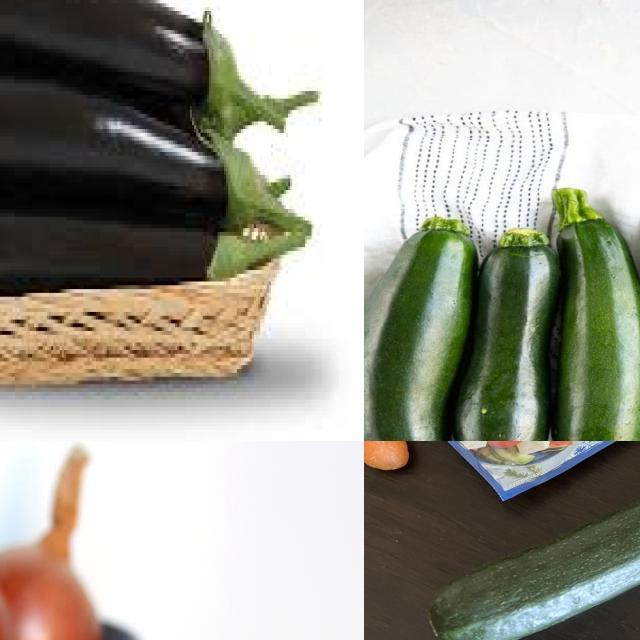eggplant: (1, 69, 250, 225), (1, 157, 270, 252), (1, 1, 231, 103), (1, 214, 248, 298)
zucchini: (428, 442, 640, 640), (365, 221, 487, 442)
